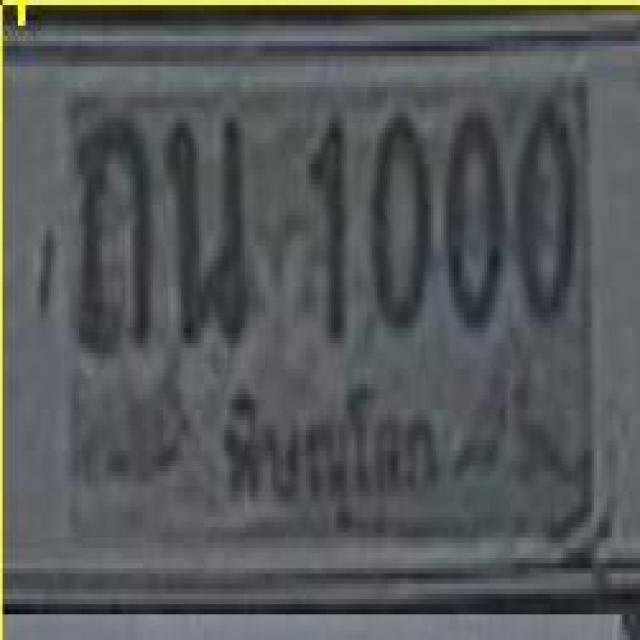license_plate: (18, 39, 638, 596)
